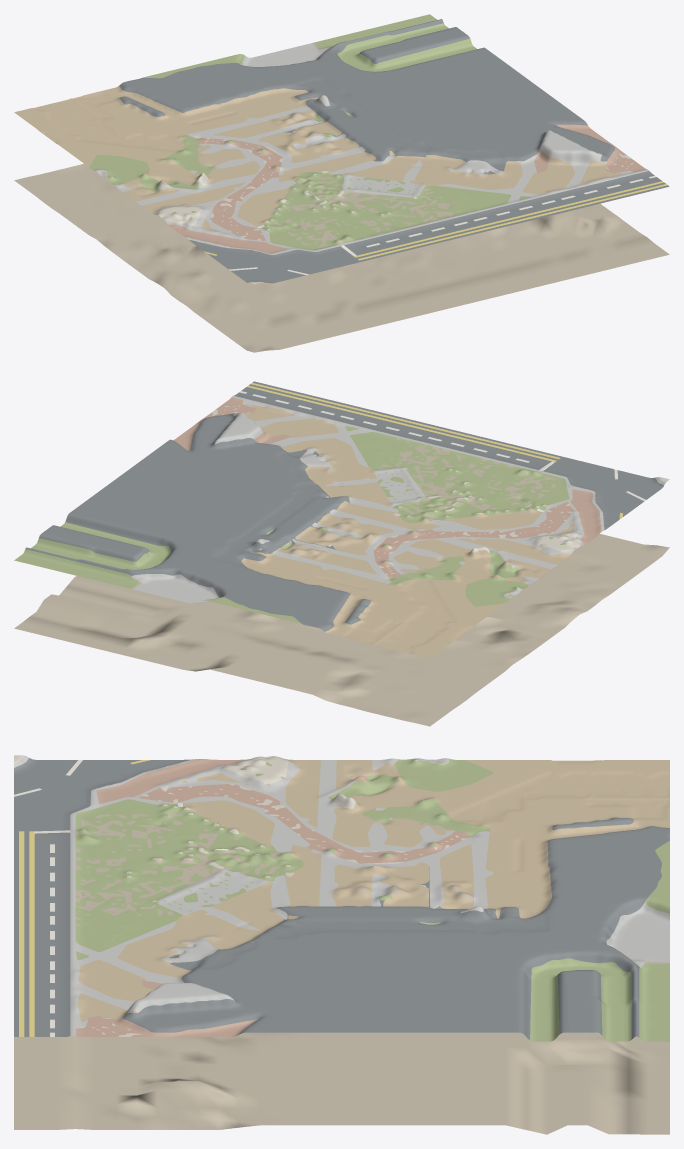
The picture shows the model from 3 angles, top to bottom: view 1: azimuth 30°, elevation 25°; view 2: azimuth 150°, elevation 25°; view 3: azimuth 270°, elevation 25°; orthographic projection. The views are drawn at different scales.
Visible parts, largest first — view 1: s_-7_-4__soil, s_-7_-4__asphalt, s_-7_-4__timber_deck, s_-7_-4__grass, s_-7_-4__stone_paving, s_-7_-4__brick_paving, s_-7_-4__yellow_marking, s_-7_-4__paving, s_-7_-4__white_marking; view 2: s_-7_-4__soil, s_-7_-4__asphalt, s_-7_-4__timber_deck, s_-7_-4__grass, s_-7_-4__stone_paving, s_-7_-4__brick_paving, s_-7_-4__yellow_marking, s_-7_-4__paving, s_-7_-4__white_marking; view 3: s_-7_-4__asphalt, s_-7_-4__soil, s_-7_-4__timber_deck, s_-7_-4__grass, s_-7_-4__stone_paving, s_-7_-4__brick_paving, s_-7_-4__paving, s_-7_-4__yellow_marking, s_-7_-4__white_marking.
Part boxes in pixels (x1,y1,x2,y2): s_-7_-4__soil: [14, 43, 669, 352]; s_-7_-4__asphalt: [119, 19, 669, 283]; s_-7_-4__timber_deck: [14, 86, 622, 233]; s_-7_-4__grass: [89, 14, 531, 250]; s_-7_-4__stone_paving: [95, 43, 648, 282]; s_-7_-4__brick_paving: [142, 124, 646, 253]; s_-7_-4__yellow_marking: [204, 181, 667, 260]; s_-7_-4__paving: [159, 130, 633, 284]; s_-7_-4__white_marking: [229, 175, 656, 275]; s_-7_-4__soil: [14, 437, 669, 726]; s_-7_-4__asphalt: [25, 381, 663, 631]; s_-7_-4__timber_deck: [241, 405, 574, 658]; s_-7_-4__grass: [14, 426, 569, 623]; s_-7_-4__stone_paving: [131, 395, 665, 603]; s_-7_-4__brick_paving: [173, 397, 601, 578]; s_-7_-4__yellow_marking: [247, 382, 622, 519]; s_-7_-4__paving: [211, 402, 669, 574]; s_-7_-4__white_marking: [239, 391, 645, 511]; s_-7_-4__asphalt: [14, 758, 669, 1039]; s_-7_-4__soil: [14, 758, 669, 1134]; s_-7_-4__timber_deck: [78, 759, 669, 1021]; s_-7_-4__grass: [75, 758, 669, 1041]; s_-7_-4__stone_paving: [14, 755, 669, 1035]; s_-7_-4__brick_paving: [75, 759, 469, 1036]; s_-7_-4__paving: [14, 755, 464, 1036]; s_-7_-4__yellow_marking: [19, 760, 150, 1036]; s_-7_-4__white_marking: [14, 760, 182, 1036].
Size of the model in its own units: 128 by 24.01 by 128.
